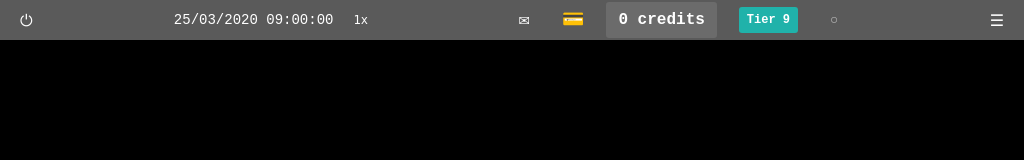
Notification System Integration › should show bank notification preview on hover
Hover over the element with class "topbar-notification" showing "💳" at (573, 20), box [562,10,584,30]
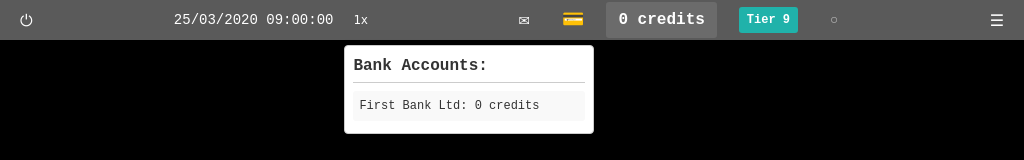
Check: the text "Bank Accounts:" is shown, box [353,54,585,82]
Check: the text "First Bank Ltd: 0 credits" is shown, box [353,90,585,120]
